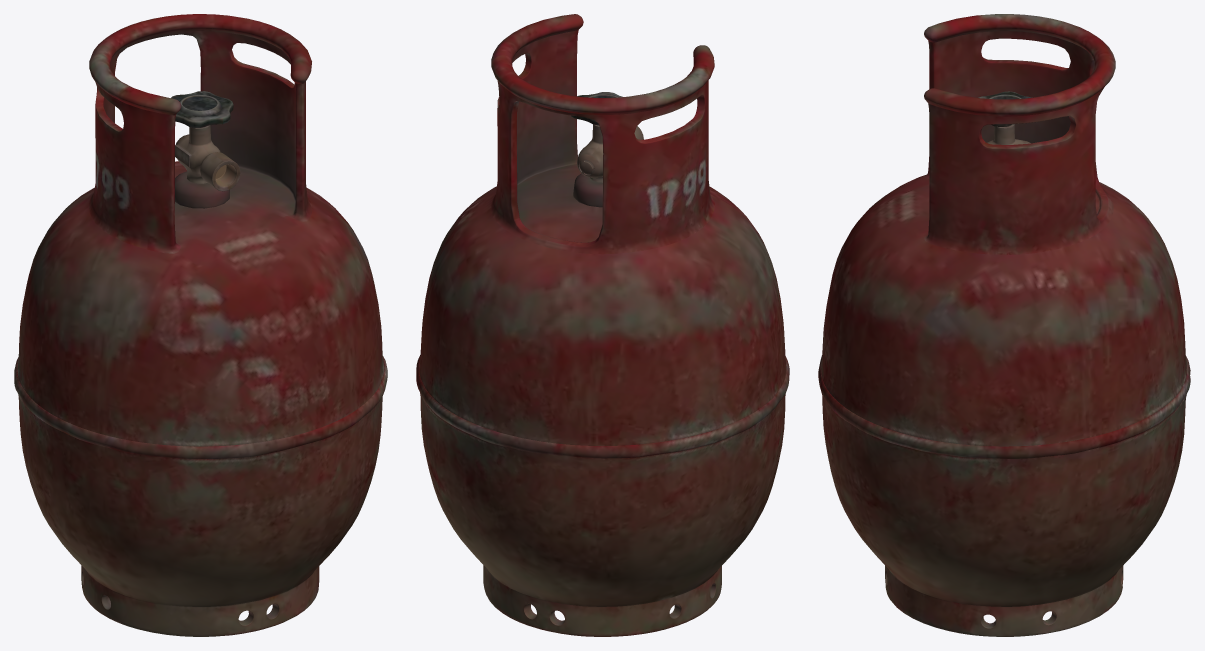
Rendered from lpg-tank.glb.
The picture shows the model from 3 angles, left to right: view 1: azimuth 30°, elevation 25°; view 2: azimuth 150°, elevation 25°; view 3: azimuth 270°, elevation 25°; orthographic projection.
Parts seen in each view (by area): view 1: small_lpg_tank; view 2: small_lpg_tank; view 3: small_lpg_tank.
Boxes of the visible parts, x1,y1,x2,y2 form: small_lpg_tank: [14, 14, 387, 636]; small_lpg_tank: [416, 14, 789, 636]; small_lpg_tank: [818, 14, 1190, 636].
Bounding box in the file's own units: 0.41 × 0.642 × 0.4092.
Materials: 1 (1 with a texture image).
